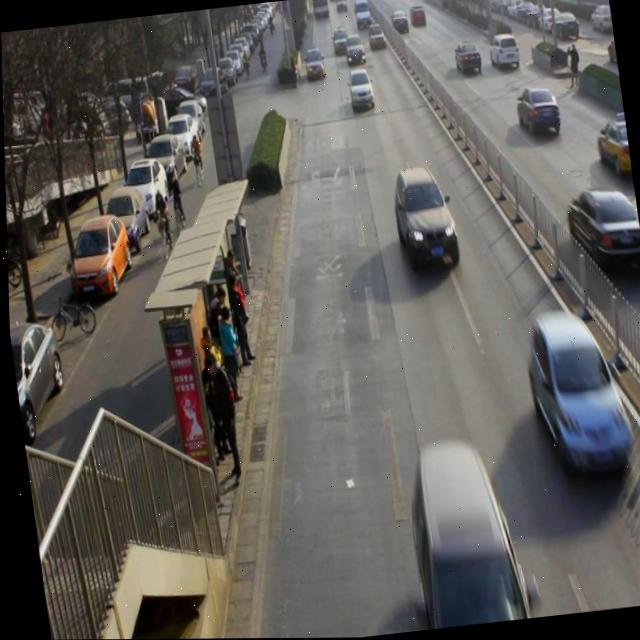car: (402, 451, 525, 630), (523, 314, 638, 491), (387, 167, 462, 277), (569, 188, 640, 280), (515, 87, 562, 143), (595, 115, 632, 183), (488, 35, 523, 77), (346, 70, 376, 112), (452, 42, 483, 81), (341, 36, 366, 70), (303, 47, 326, 83), (365, 25, 386, 54), (329, 28, 349, 58), (388, 12, 409, 37), (409, 5, 427, 29)
